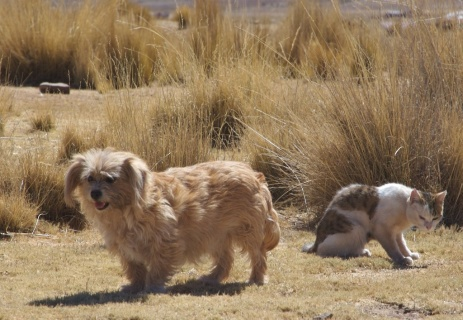Cat: (312, 180, 446, 263)
